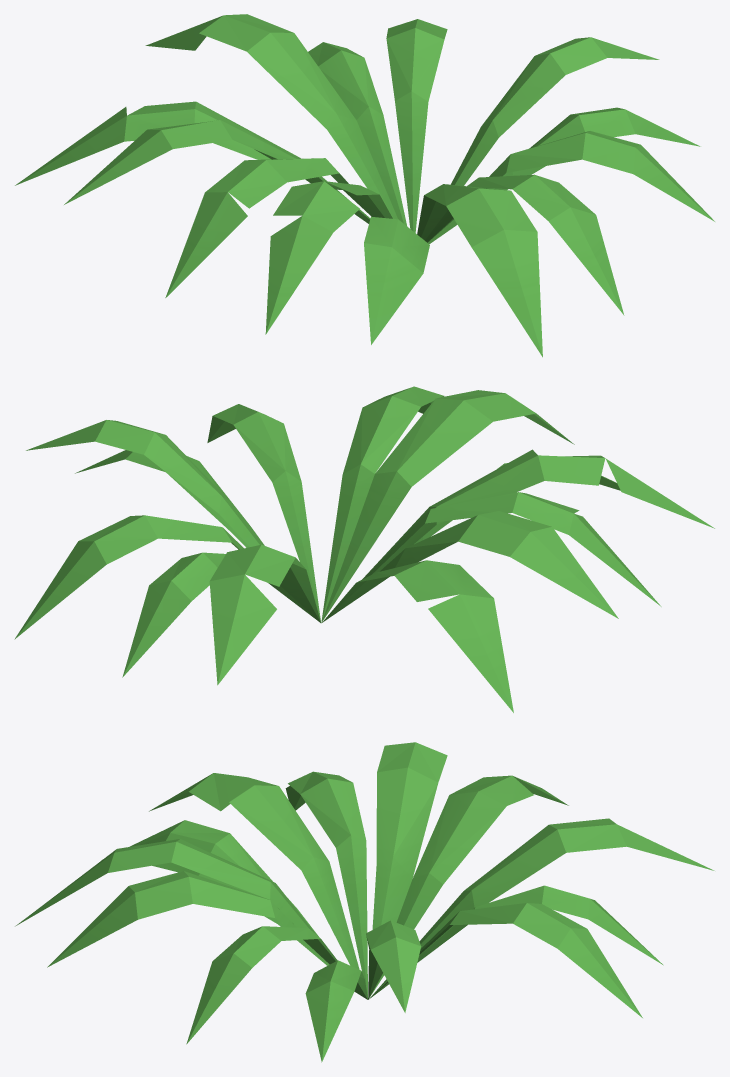
Rendered from plant_low.glb.
3 renders of one model, top to bottom at view 1: azimuth 30°, elevation 25°; view 2: azimuth 150°, elevation 25°; view 3: azimuth 270°, elevation 25°, orthographic. The views are drawn at different scales.
Visible parts, largest first — view 1: Plant_10_A; view 2: Plant_10_A; view 3: Plant_10_A.
Boxes of the visible parts, x1,y1,x2,y2 form: Plant_10_A: (15, 14, 714, 357); Plant_10_A: (14, 386, 714, 712); Plant_10_A: (15, 742, 714, 1062).
Bounding box in the file's own units: 0.8394 × 0.2223 × 0.923.
1 material, 1 textured.
